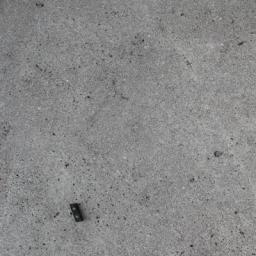FOD: (67, 200, 88, 225)
